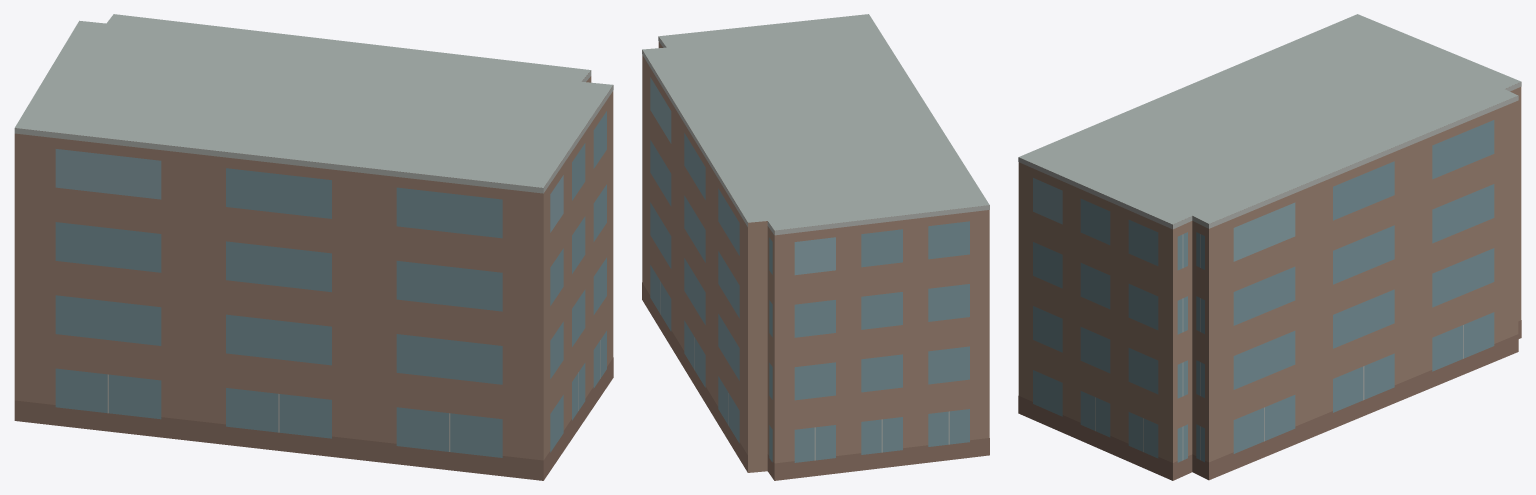
Rendered from survey-upis-32773240.glb.
3 views of the same model, side by side, from view 1: azimuth 30°, elevation 25°; view 2: azimuth 150°, elevation 25°; view 3: azimuth 270°, elevation 25° (orthographic). The views are drawn at different scales.
Visible parts, largest first — view 1: survey-upis-32773240.tmp; view 2: survey-upis-32773240.tmp; view 3: survey-upis-32773240.tmp.
Part boxes in pixels (<box>): survey-upis-32773240.tmp: <box>14,14,613,480</box>; survey-upis-32773240.tmp: <box>642,14,989,480</box>; survey-upis-32773240.tmp: <box>1018,14,1521,480</box>.
Size of the model in its own units: 22.56 by 12.8 by 22.77.
